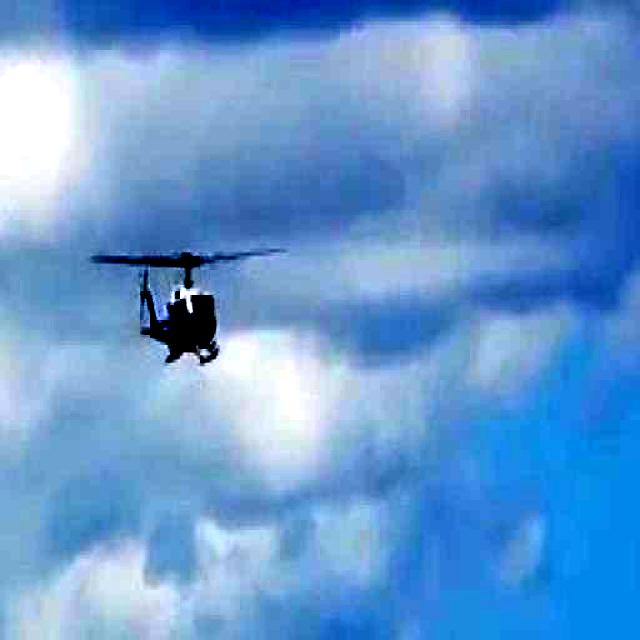drone: (118, 241, 242, 368)
